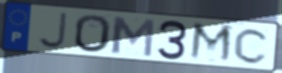3: (155, 18, 190, 61)
C: (232, 27, 271, 65)
J: (36, 11, 69, 50)
M: (187, 20, 235, 65), (110, 15, 157, 59)
O: (73, 13, 112, 54)
